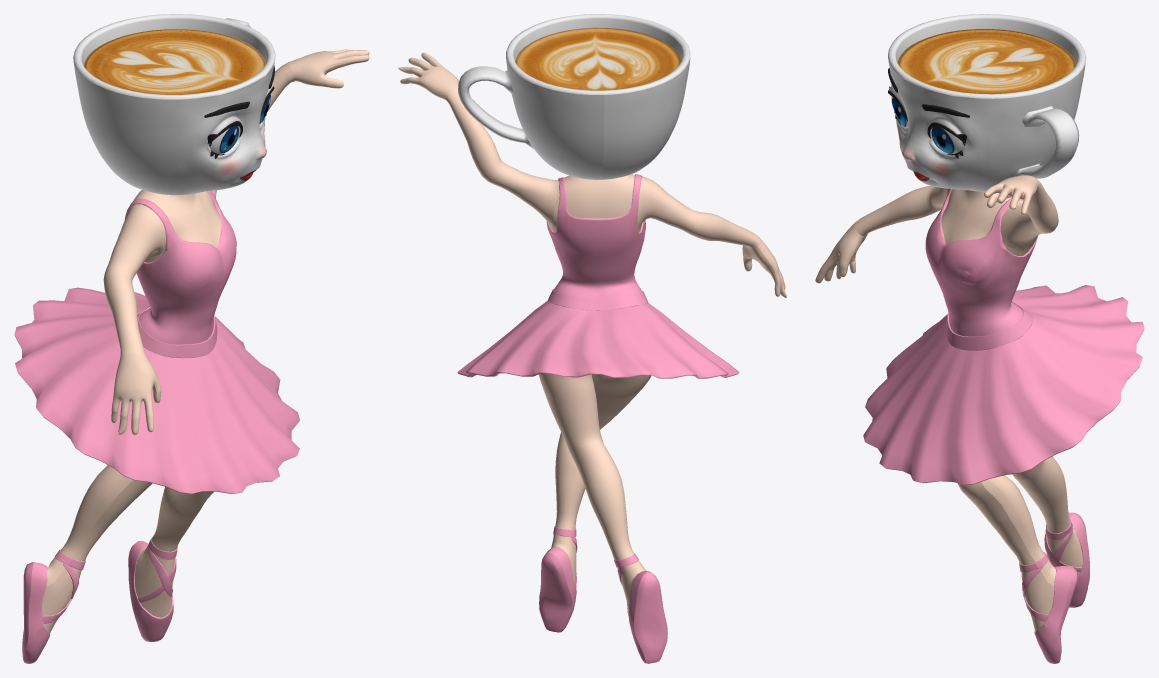
Rendered from Ballerina Cappuccina - Brainrot Meme.fbx.
The picture shows the model from 3 angles, left to right: view 1: azimuth 30°, elevation 25°; view 2: azimuth 150°, elevation 25°; view 3: azimuth 270°, elevation 25°; orthographic projection. The views are drawn at different scales.
Visible parts, largest first — view 1: Ballerina_Cappuccina; view 2: Ballerina_Cappuccina; view 3: Ballerina_Cappuccina.
Boxes of the visible parts, x1,y1,x2,y2 form: Ballerina_Cappuccina: (14,14,369,663); Ballerina_Cappuccina: (398,14,786,663); Ballerina_Cappuccina: (815,14,1144,663).
Bounding box in the file's own units: 111 × 190 × 94.23.
Materials: 1 (1 with a texture image).
